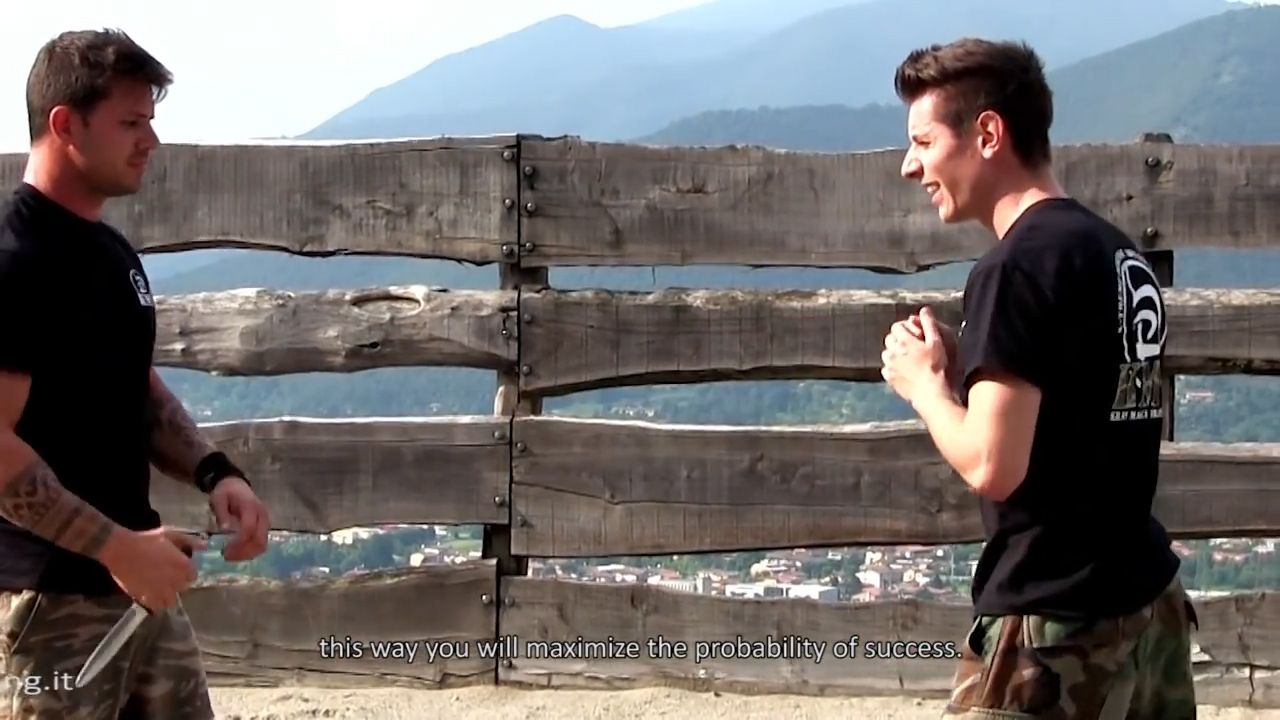knife: (71, 529, 204, 690)
